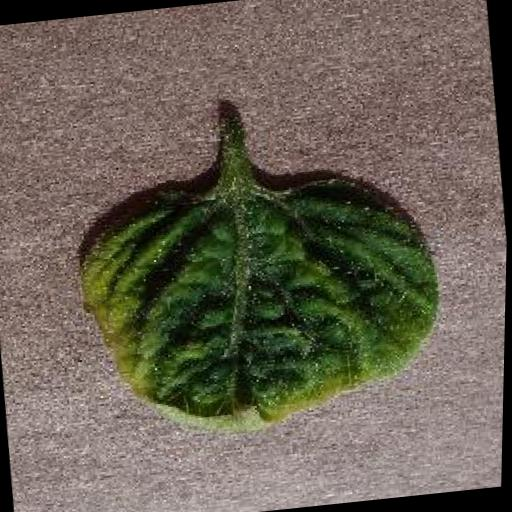Yellow Leaf Curl Virus: (68, 162, 458, 444)
